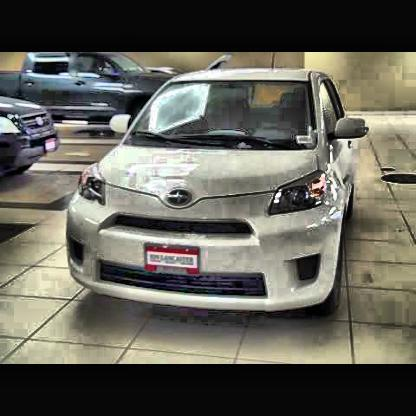Scion xD Hatchback 2012: (65, 64, 371, 324)
